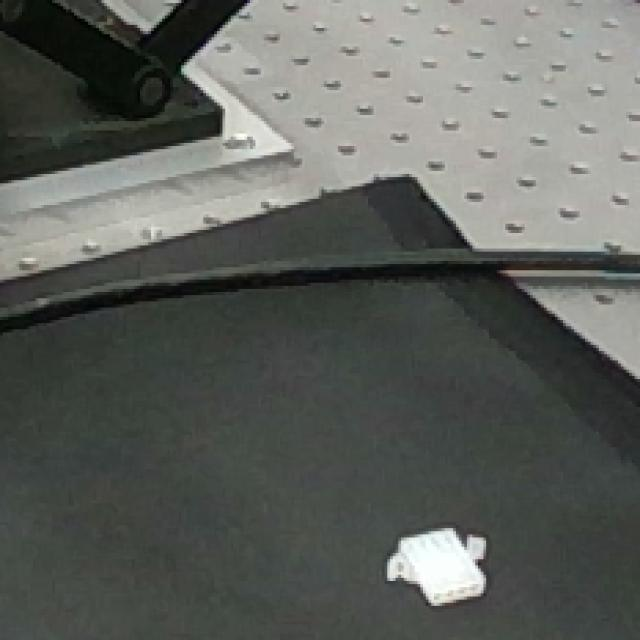Target: (378, 519, 506, 608)
